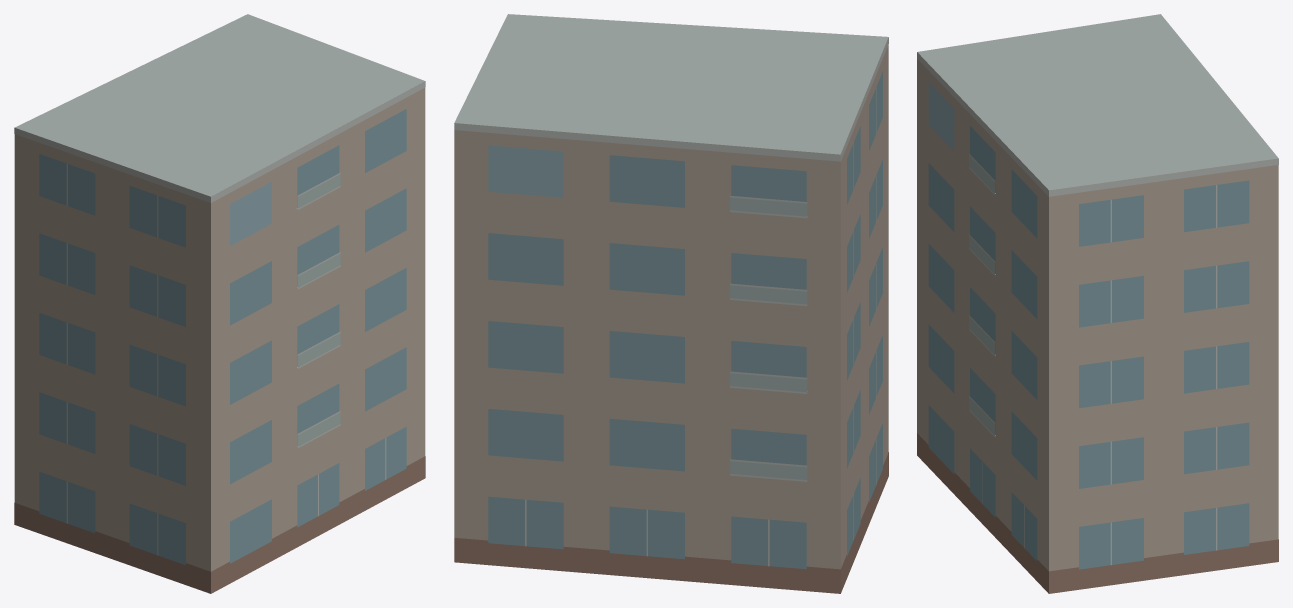
File: residential-52d19263-2011-43a0-a374-d3eb275abc23.glb
3 views of the same model, side by side, from view 1: azimuth 30°, elevation 25°; view 2: azimuth 150°, elevation 25°; view 3: azimuth 270°, elevation 25° (orthographic). The views are drawn at different scales.
Parts seen in each view (by area): view 1: residential-52d19263-2011-43a0-a374-d3eb275abc23.tmp; view 2: residential-52d19263-2011-43a0-a374-d3eb275abc23.tmp; view 3: residential-52d19263-2011-43a0-a374-d3eb275abc23.tmp.
Boxes of the visible parts, x1,y1,x2,y2 form: residential-52d19263-2011-43a0-a374-d3eb275abc23.tmp: [14, 14, 425, 593]; residential-52d19263-2011-43a0-a374-d3eb275abc23.tmp: [454, 14, 888, 593]; residential-52d19263-2011-43a0-a374-d3eb275abc23.tmp: [917, 14, 1278, 593].
Bounding box in the file's own units: 14.31 × 15.25 × 12.4.
